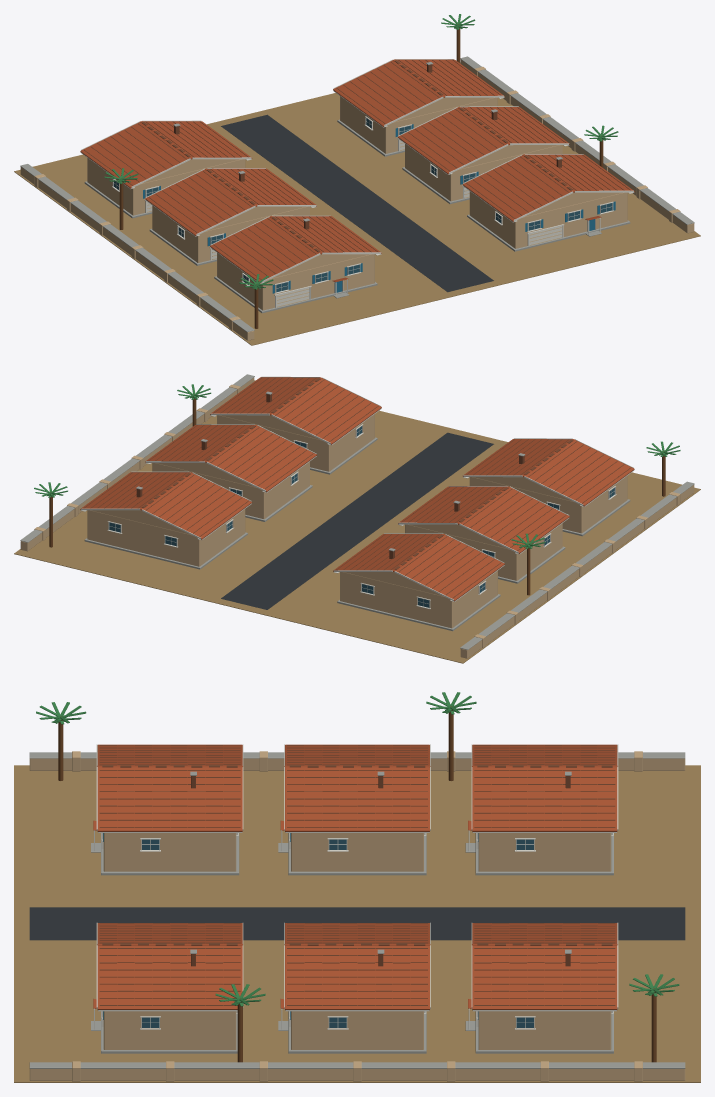
File: rorng_city_infill_suburb_block_96x88.glb
The picture shows the model from 3 angles, top to bottom: view 1: azimuth 30°, elevation 25°; view 2: azimuth 150°, elevation 25°; view 3: azimuth 270°, elevation 25°; orthographic projection. The views are drawn at different scales.
Visible parts, largest first — view 1: rorng_city_infill_suburb_block_96x88_lod0; view 2: rorng_city_infill_suburb_block_96x88_lod0; view 3: rorng_city_infill_suburb_block_96x88_lod0.
Part boxes in pixels (x1=…): rorng_city_infill_suburb_block_96x88_lod0: x1=14, y1=14, x2=700, y2=345; rorng_city_infill_suburb_block_96x88_lod0: x1=14, y1=374, x2=700, y2=663; rorng_city_infill_suburb_block_96x88_lod0: x1=14, y1=692, x2=700, y2=1082.
Size of what is drawn, in the model's own units: 96 by 11.85 by 88.
